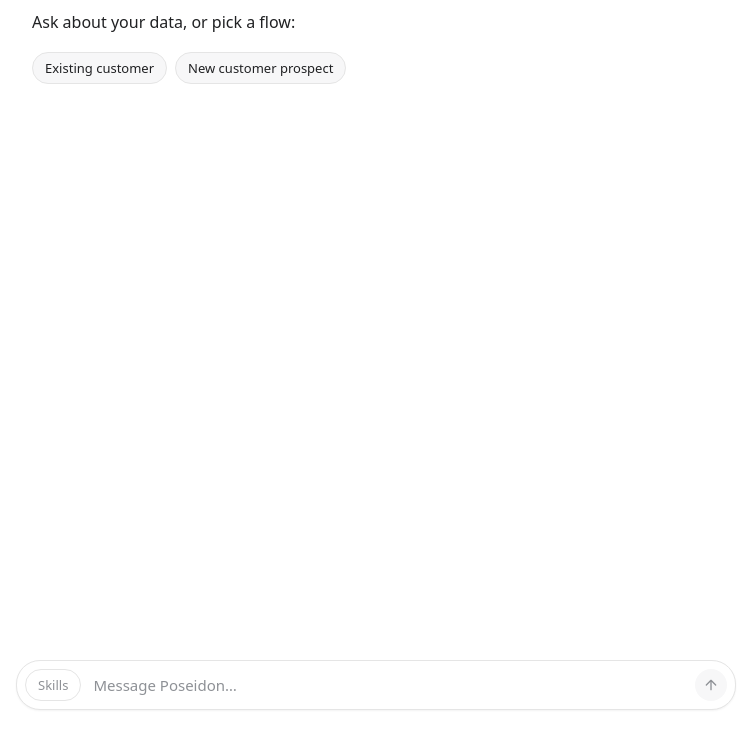
Test: skills picker inserts an example prompt
(page scrolled)
expect the field with placeholder "Message Poseidon…" is shown: met, box [89, 661, 687, 709]
Click the button "Skills".
click(53, 685)  # box [25, 669, 81, 701]
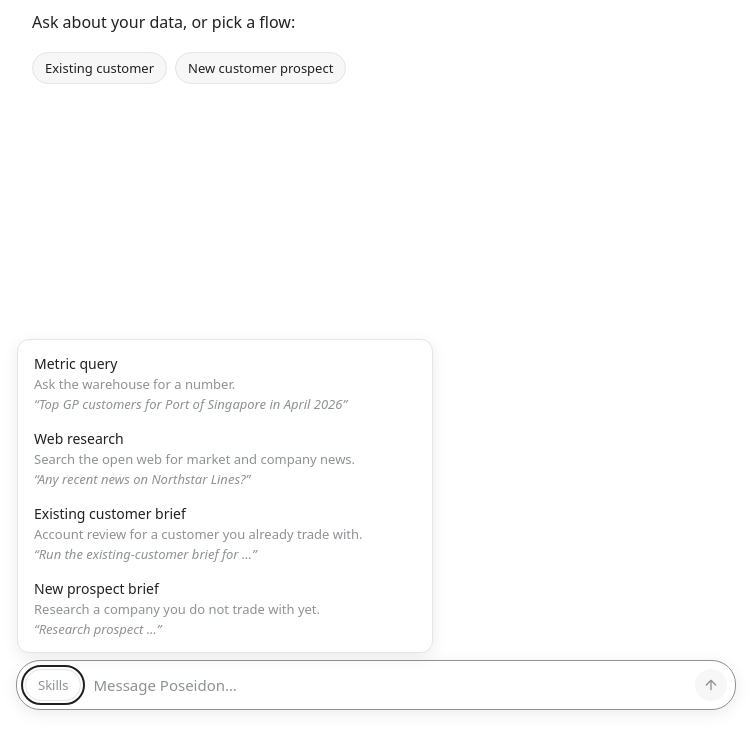
Click the text "Metric query".
click(76, 364)  # box [34, 354, 118, 373]
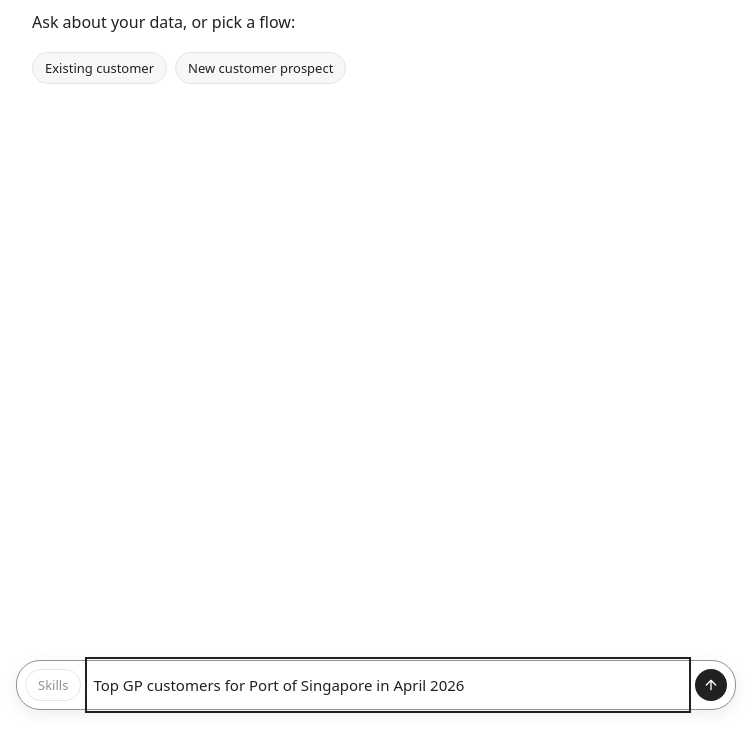
expect the field with placeholder "Message Poseidon…" holds "Top GP customers for Port of Singapore in April 2026": met, box [89, 661, 687, 709]
